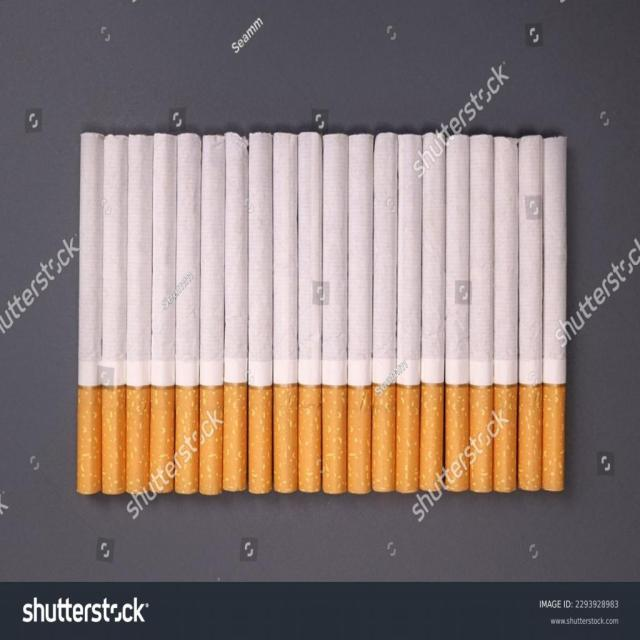smoking: (76, 131, 568, 497)
